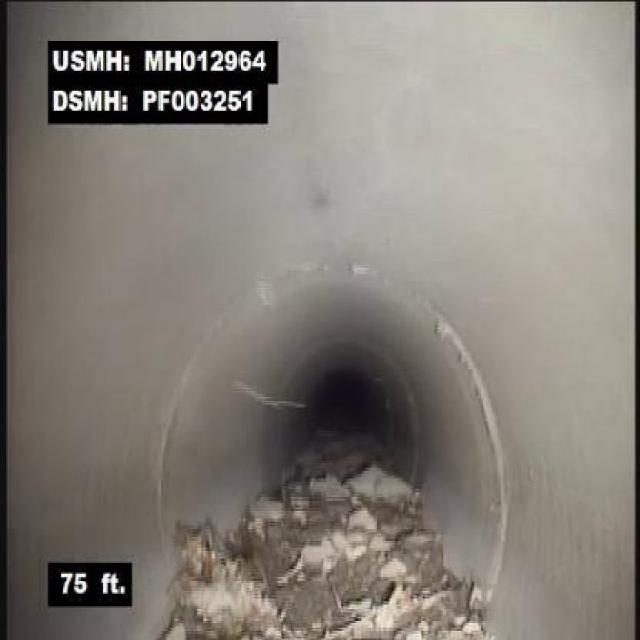Debris: (168, 557, 489, 638), (185, 489, 446, 551)
